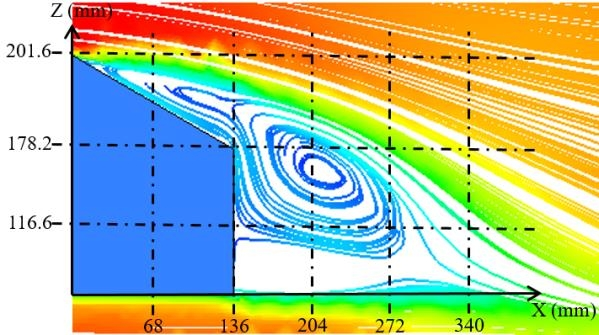vortox: (242, 119, 403, 256)
